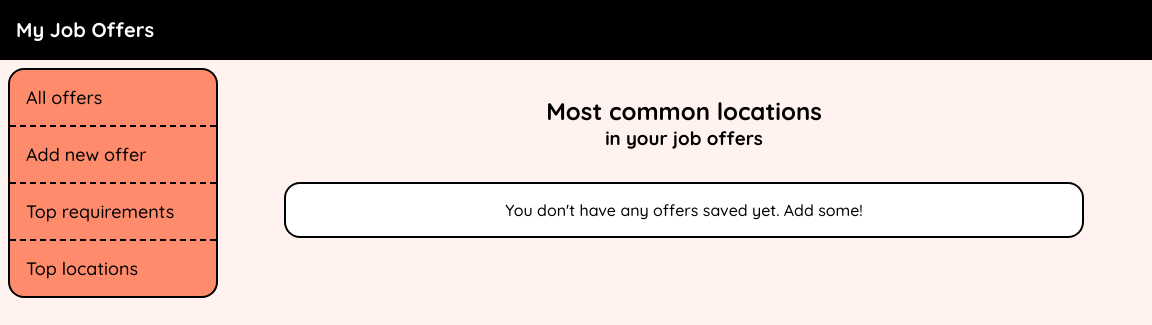
it: navigation works › redirects to 'all offers' page
Click the link "All offers" at {"x": 113, "y": 98}, box [10,70,216,127]
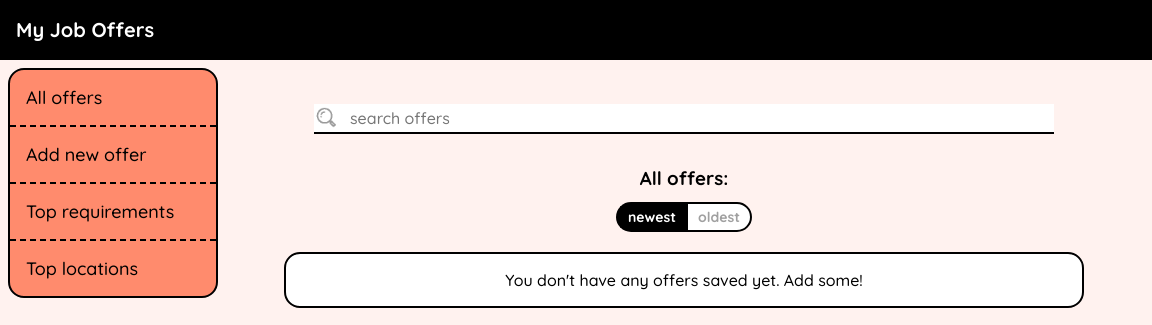
Expected: the field with placeholder "search offers" is shown, [314,104,1054,134]
